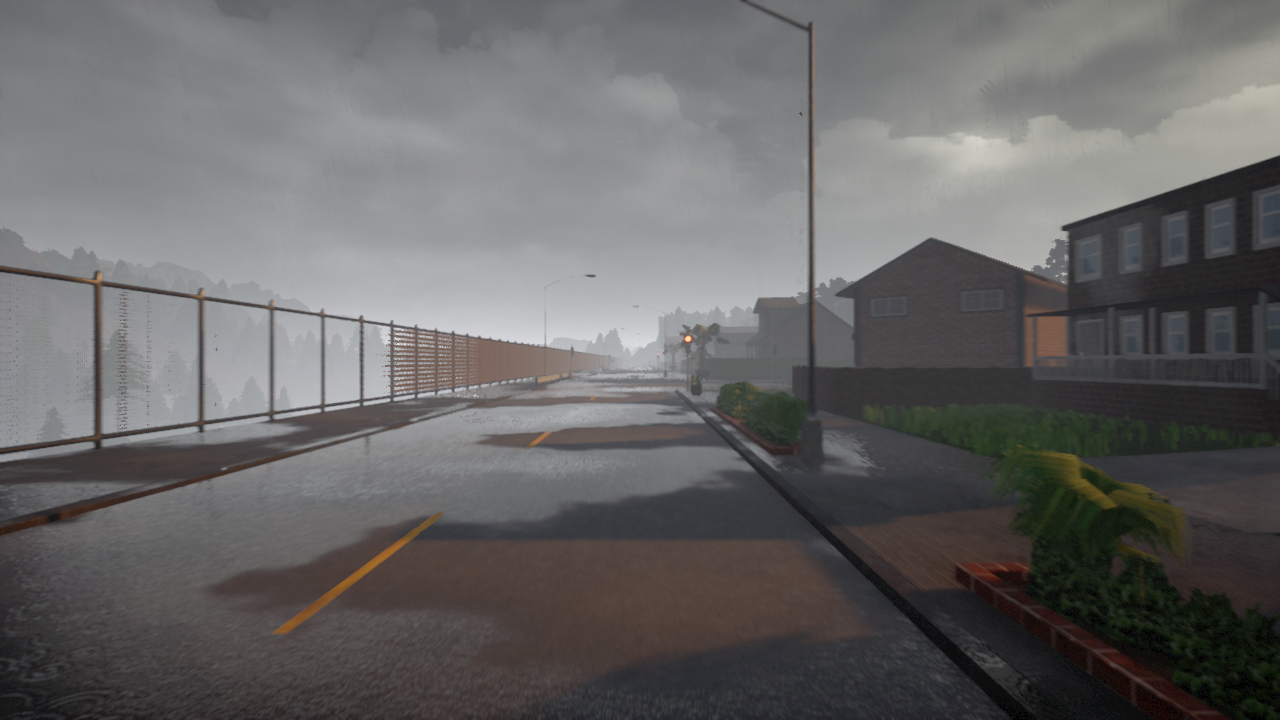red: (682, 334, 692, 353)
